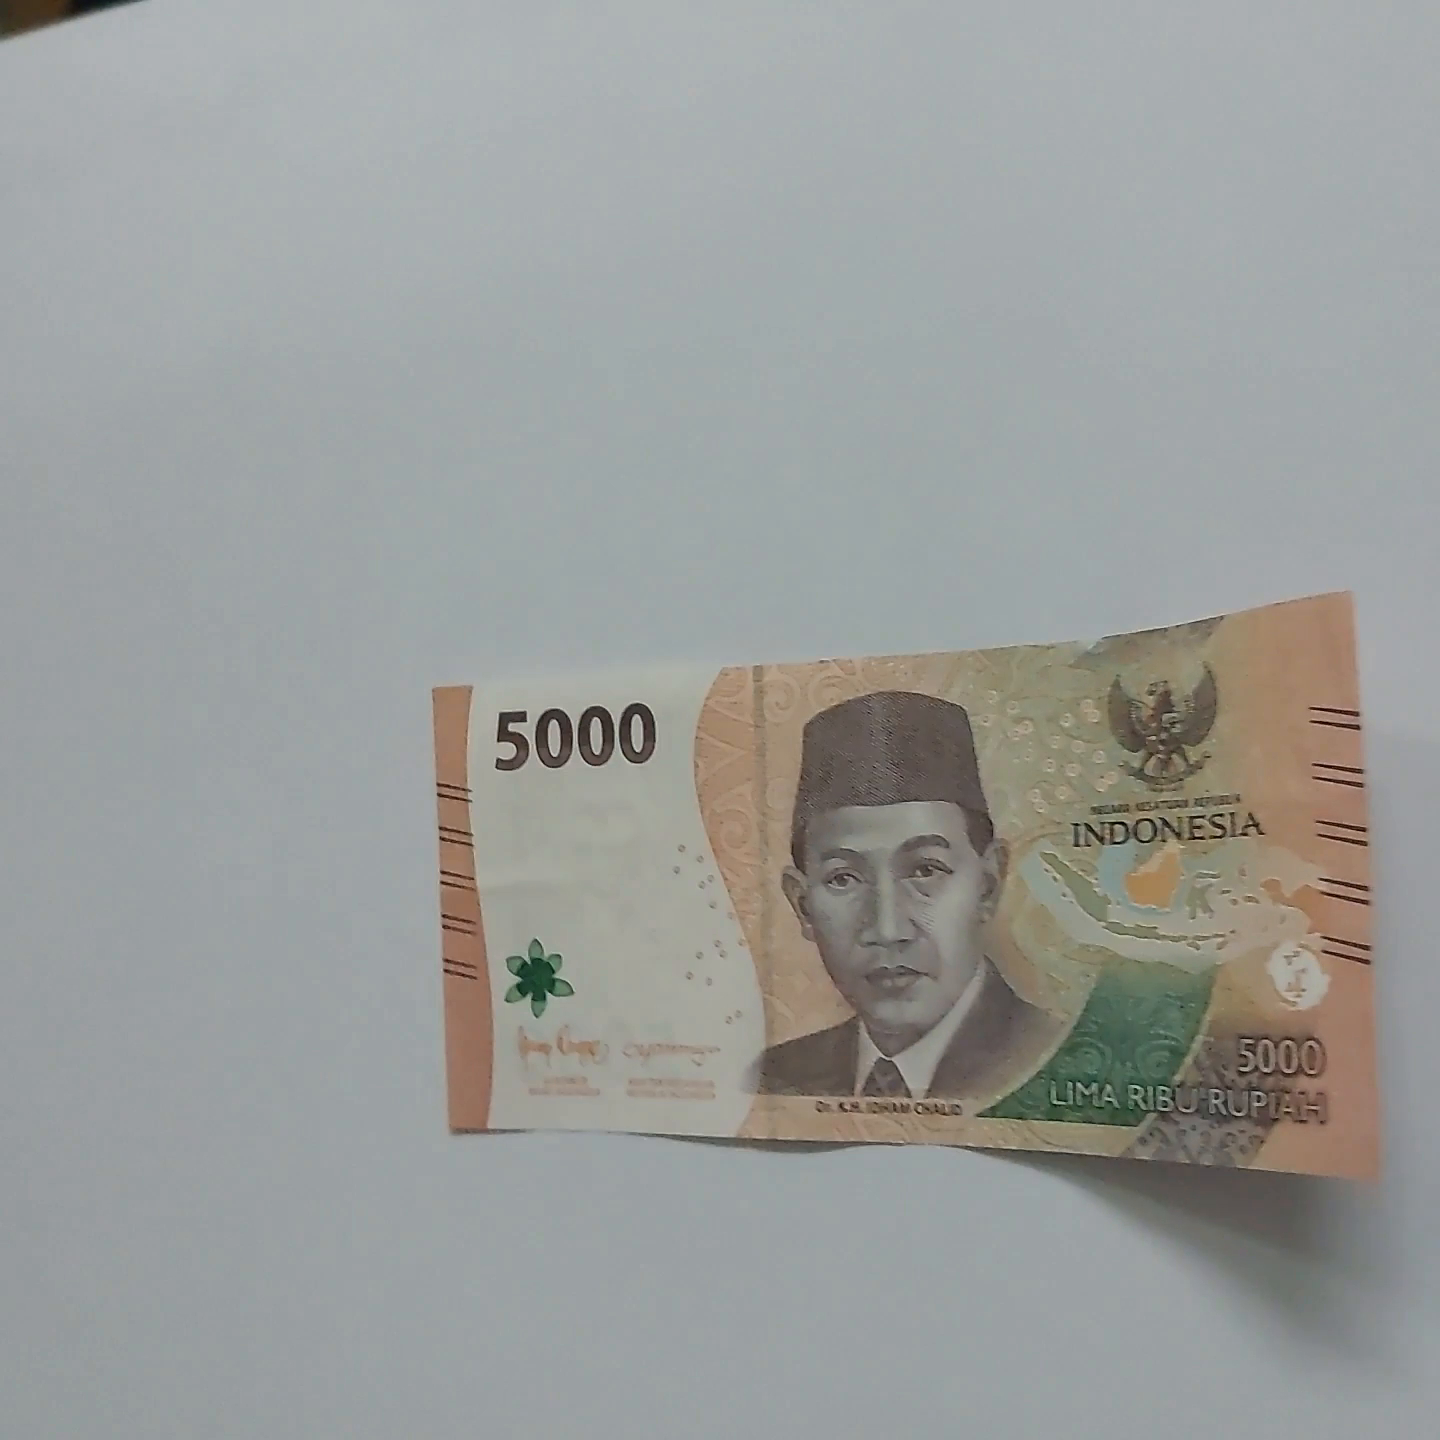5k: (400, 649, 1440, 1209)
